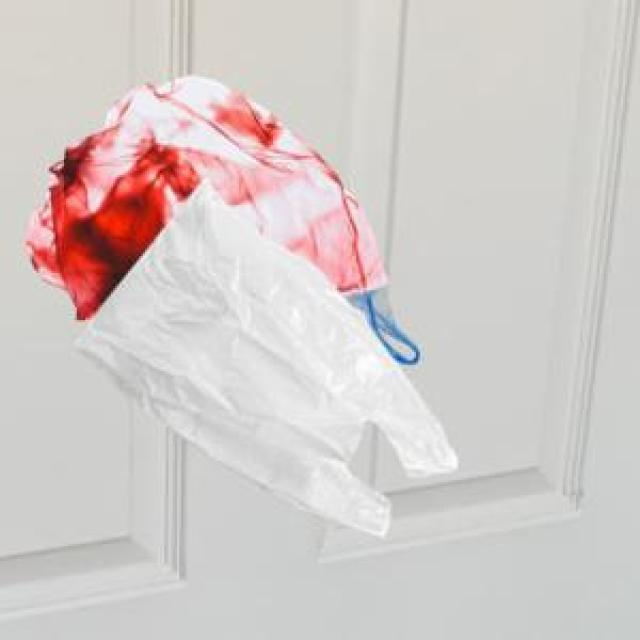waste: (26, 76, 388, 319)
